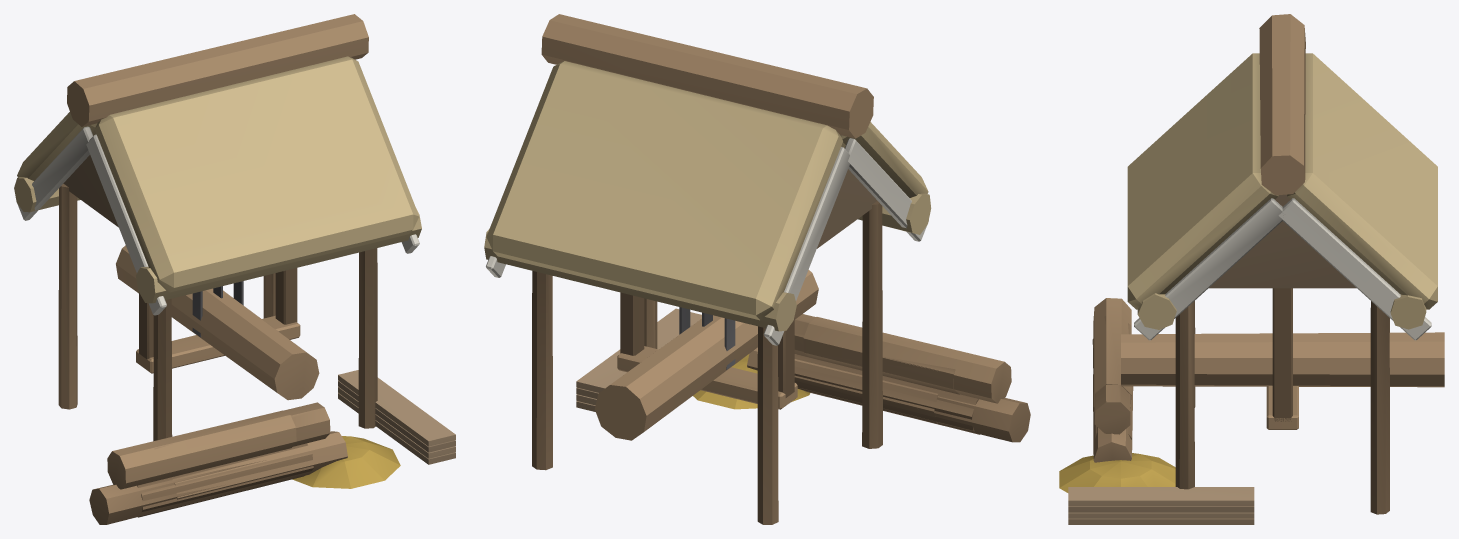
Rendered from bld_lesopilka.glb.
The picture shows the model from 3 angles, left to right: view 1: azimuth 30°, elevation 25°; view 2: azimuth 150°, elevation 25°; view 3: azimuth 270°, elevation 25°; orthographic projection. The views are drawn at different scales.
Parts seen in each view (by area): view 1: lesopilka; view 2: lesopilka; view 3: lesopilka.
Boxes of the visible parts, left/top/right/bottom form: lesopilka: left=14, top=14, right=455, bottom=524; lesopilka: left=484, top=14, right=1030, bottom=524; lesopilka: left=1059, top=14, right=1444, bottom=524.
Size of the model in its own units: 1 by 1.02 by 0.9522.
